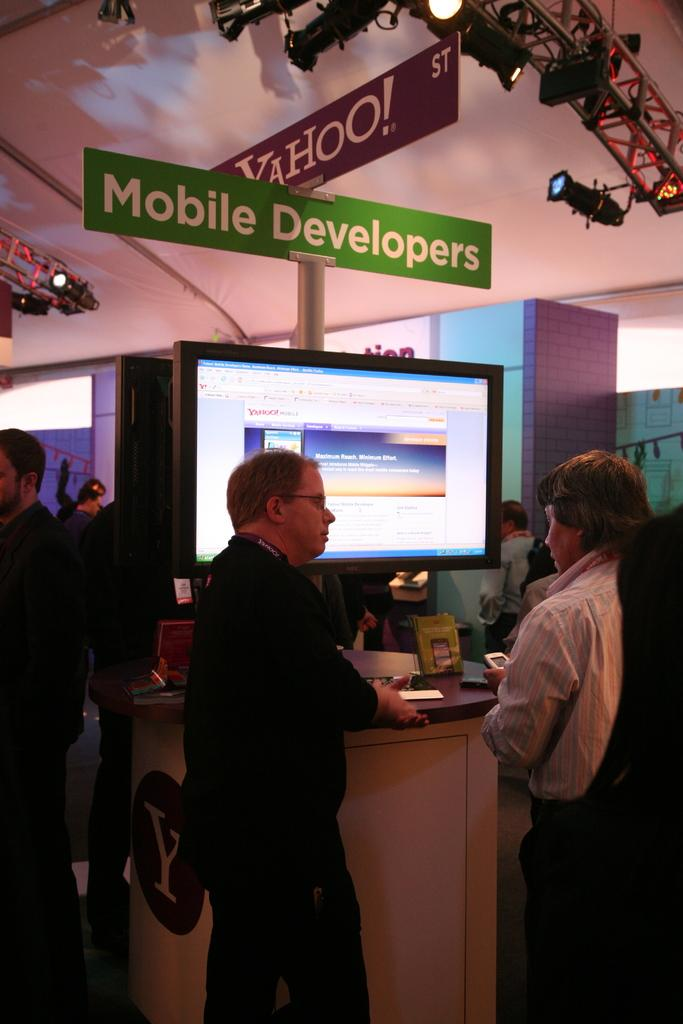Computer-monitor: (196, 358, 514, 568), (74, 356, 129, 533)
